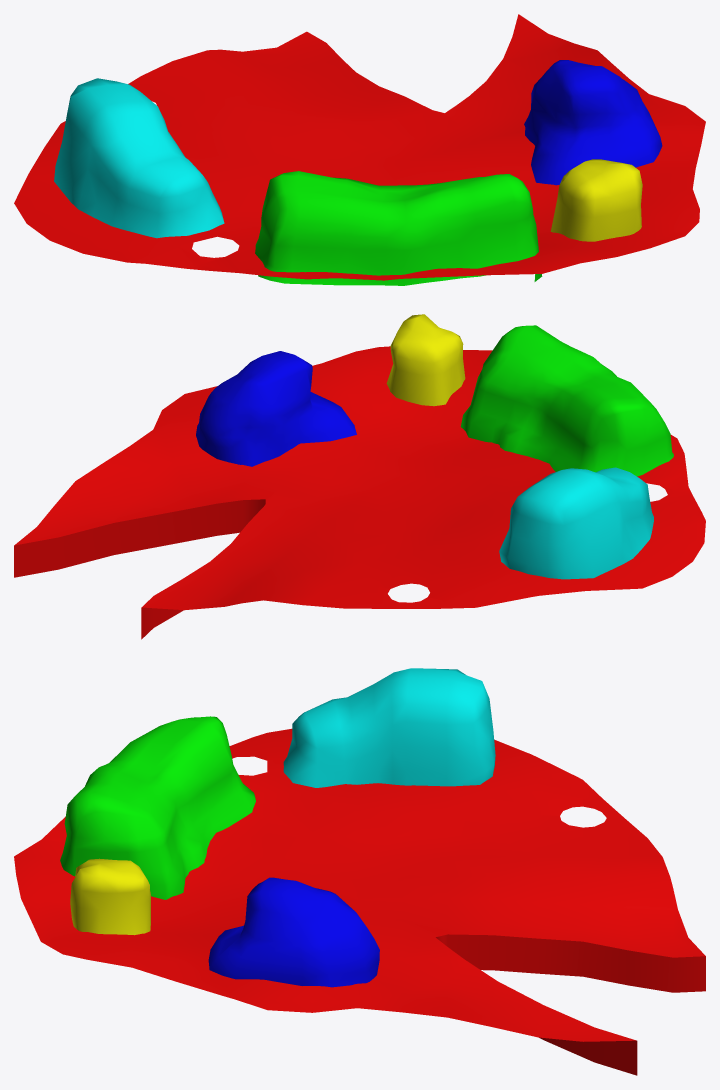
File: terrain test underpath.fbx
3 views of the same model, one above another, from view 1: azimuth 30°, elevation 25°; view 2: azimuth 150°, elevation 25°; view 3: azimuth 270°, elevation 25° (orthographic). The views are drawn at different scales.
Visible parts, largest first — view 1: collision_underpath; view 2: collision_underpath; view 3: collision_underpath.
Part boxes in pixels (left/top/right/bottom): collision_underpath: left=14, top=14, right=705, bottom=285; collision_underpath: left=14, top=314, right=705, bottom=639; collision_underpath: left=14, top=668, right=705, bottom=1075.
Size of the model in its own units: 726 by 177 by 718.
